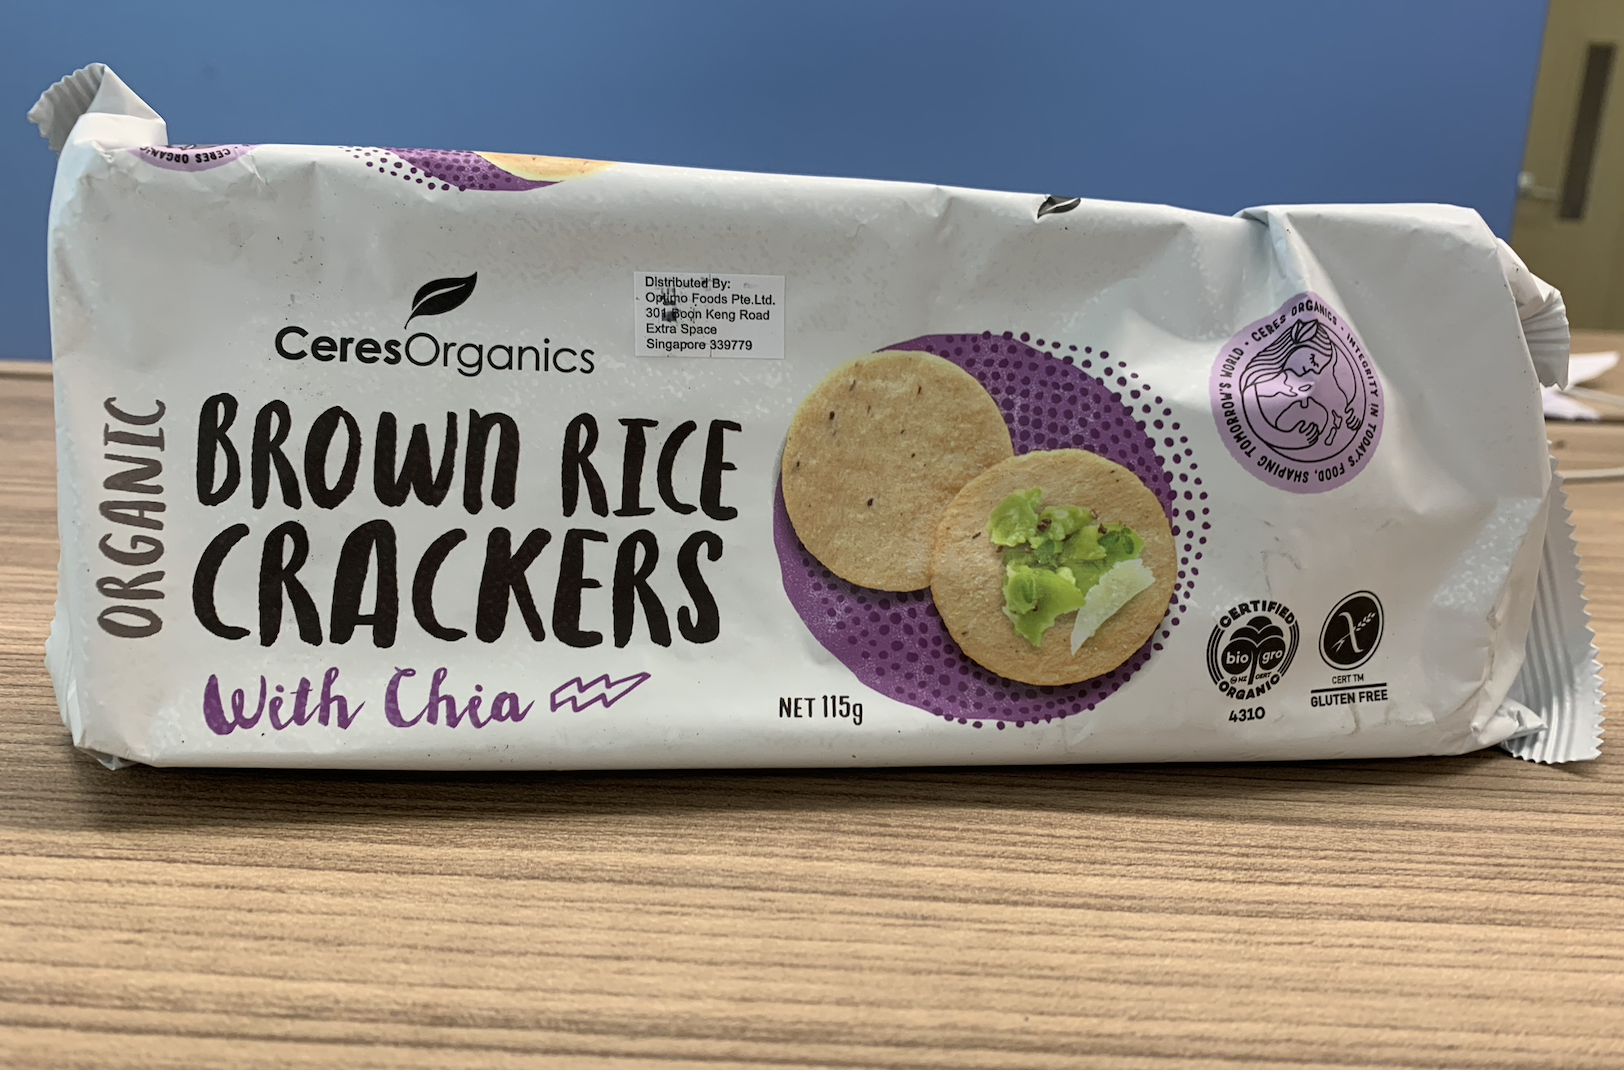crackers_150g: (81, 191, 1481, 743)
